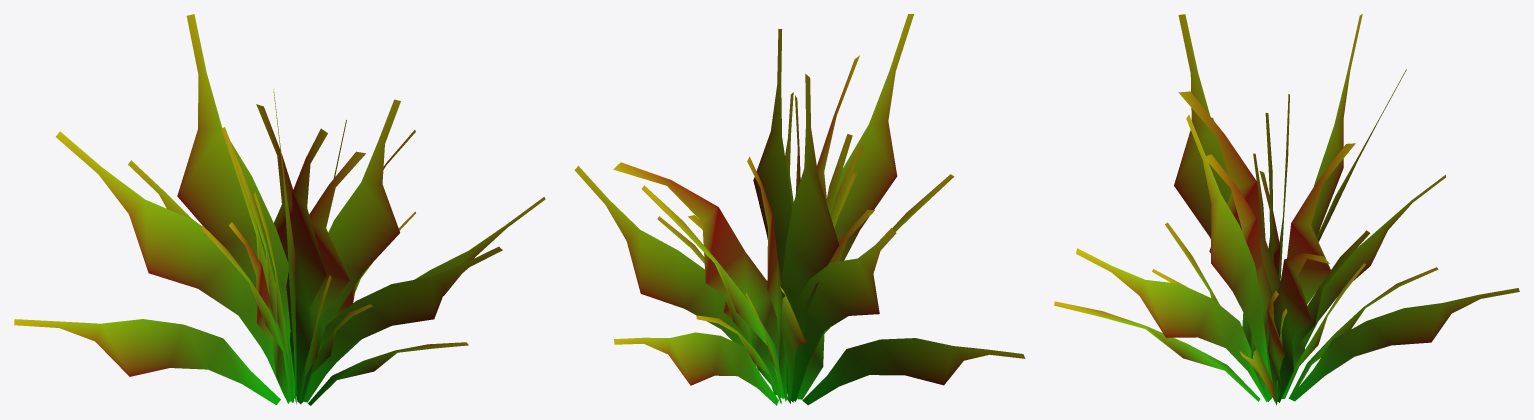
The model's file is tmjhcayia_Var6_LOD0.fbx.
3 renders of one model, left to right at view 1: azimuth 30°, elevation 25°; view 2: azimuth 150°, elevation 25°; view 3: azimuth 270°, elevation 25°, orthographic. The views are drawn at different scales.
Parts seen in each view (by area): view 1: Var6_LOD0; view 2: Var6_LOD0; view 3: Var6_LOD0.
Boxes of the visible parts, x1,y1,x2,y2 form: Var6_LOD0: (14,14,545,405); Var6_LOD0: (574,14,1025,405); Var6_LOD0: (1054,14,1519,405).
Bounding box in the file's own units: 11.4 × 8.24 × 9.73.
